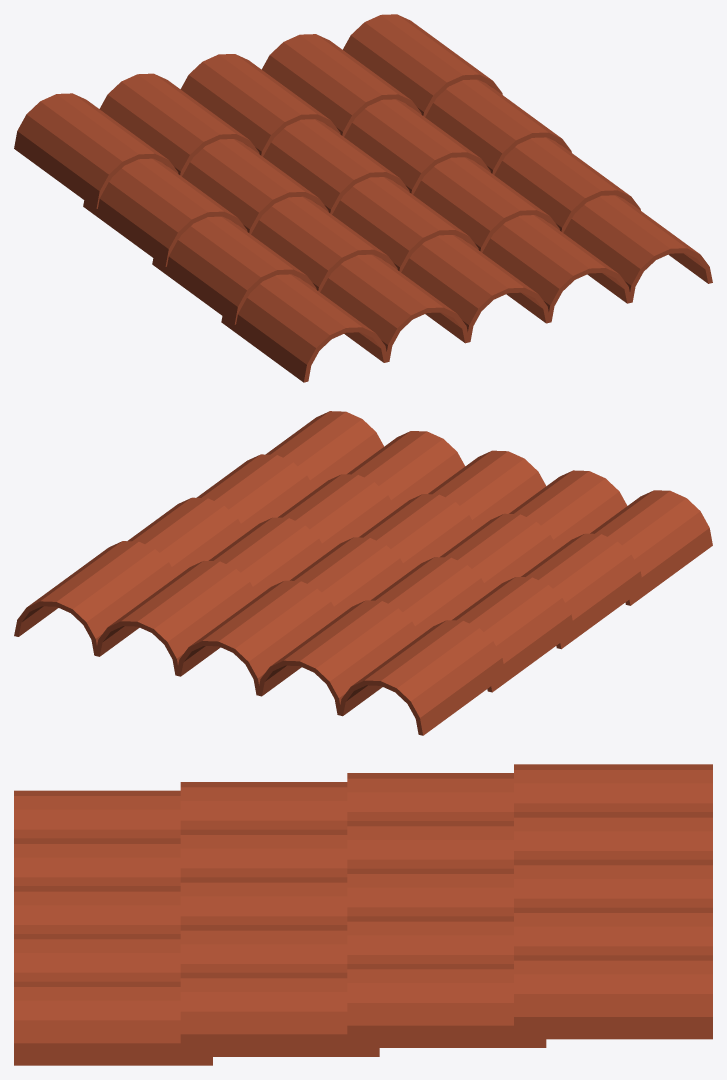
The model's file is malaysia-roof-tile-module.glb.
The picture shows the model from 3 angles, top to bottom: view 1: azimuth 30°, elevation 25°; view 2: azimuth 150°, elevation 25°; view 3: azimuth 270°, elevation 25°; orthographic projection. The views are drawn at different scales.
Parts seen in each view (by area): view 1: Tile_3_0, Tile_0_0, Tile_1_0, Tile_2_0, Tile_3_4, Tile_3_3, Tile_3_1, Tile_3_2, Tile_0_4, Tile_0_3, Tile_0_1, Tile_0_2 (+8 smaller); view 2: Tile_3_0, Tile_3_3, Tile_3_4, Tile_3_2, Tile_3_1, Tile_0_0, Tile_1_0, Tile_2_0, Tile_0_1, Tile_2_1, Tile_2_3, Tile_2_4 (+8 smaller); view 3: Tile_3_4, Tile_1_4, Tile_0_4, Tile_2_4, Tile_3_2, Tile_3_3, Tile_3_0, Tile_3_1, Tile_1_1, Tile_0_0, Tile_2_2, Tile_1_0 (+8 smaller).
Boxes of the visible parts, x1,y1,x2,y2 form: Tile_3_0: [14, 93, 178, 208]; Tile_0_0: [221, 274, 388, 382]; Tile_1_0: [152, 216, 316, 324]; Tile_2_0: [83, 158, 247, 266]; Tile_3_4: [343, 14, 502, 116]; Tile_3_3: [261, 34, 421, 136]; Tile_3_1: [99, 73, 259, 176]; Tile_3_2: [180, 54, 340, 156]; Tile_0_4: [563, 195, 712, 303]; Tile_0_3: [482, 215, 631, 323]; Tile_0_1: [320, 254, 469, 361]; Tile_0_2: [401, 235, 550, 341]; Tile_3_0: [338, 620, 505, 735]; Tile_3_3: [95, 560, 257, 675]; Tile_3_4: [14, 541, 176, 656]; Tile_3_2: [176, 580, 338, 695]; Tile_3_1: [257, 600, 419, 714]; Tile_0_0: [590, 490, 712, 605]; Tile_1_0: [521, 533, 643, 649]; Tile_2_0: [452, 577, 574, 692]; Tile_0_1: [509, 470, 627, 548]; Tile_2_1: [370, 557, 488, 635]; Tile_2_3: [208, 517, 326, 595]; Tile_2_4: [127, 497, 245, 576]; Tile_3_4: [514, 955, 712, 1039]; Tile_1_4: [180, 972, 379, 1056]; Tile_0_4: [14, 981, 212, 1065]; Tile_2_4: [347, 964, 546, 1047]; Tile_3_2: [514, 859, 712, 907]; Tile_3_3: [514, 907, 712, 955]; Tile_3_0: [514, 764, 712, 811]; Tile_3_1: [514, 812, 712, 859]; Tile_1_1: [180, 829, 347, 877]; Tile_0_0: [14, 790, 180, 838]; Tile_2_2: [347, 868, 513, 916]; Tile_1_0: [180, 782, 347, 829].
Bounding box in the file's own units: 1.06 × 0.164 × 1.3.
